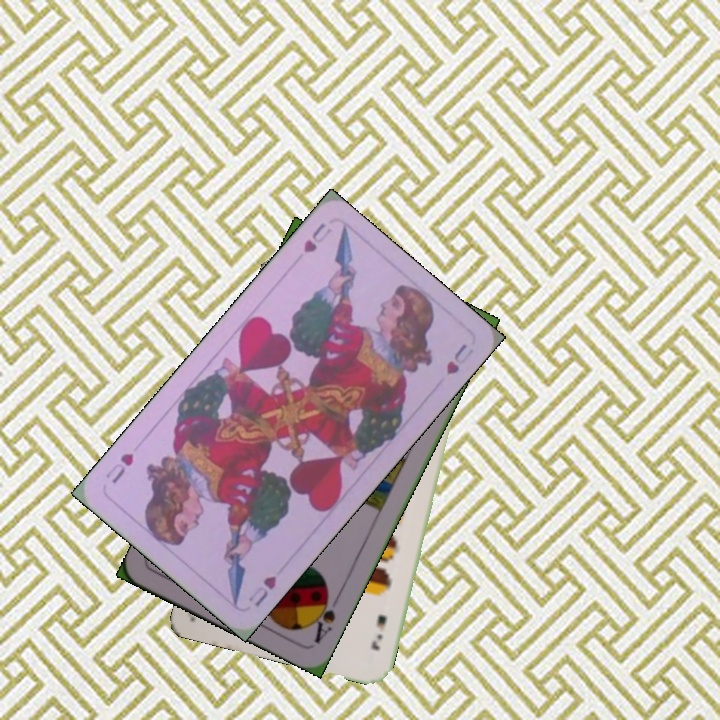E7: (367, 610, 390, 653)
HU: (244, 572, 279, 610), (299, 219, 334, 256)
SA: (306, 586, 342, 647)
